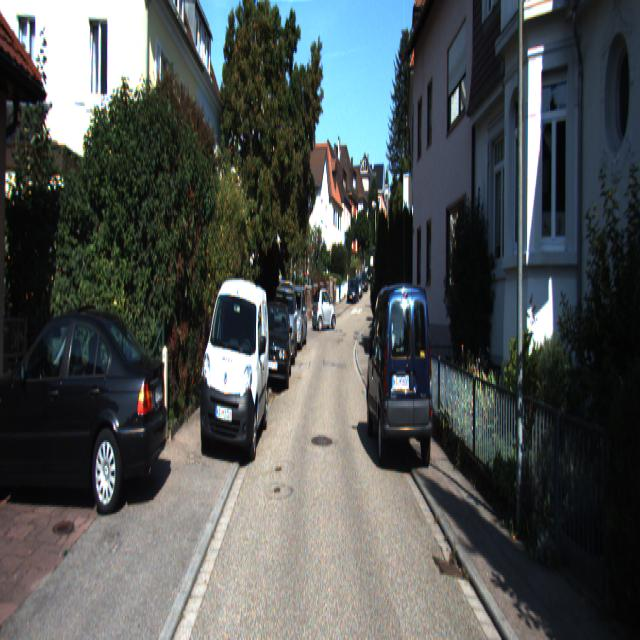Car: (0, 298, 172, 514), (198, 258, 272, 456), (366, 281, 436, 475), (258, 302, 293, 393), (270, 278, 298, 367), (280, 283, 309, 350), (312, 288, 336, 332)
